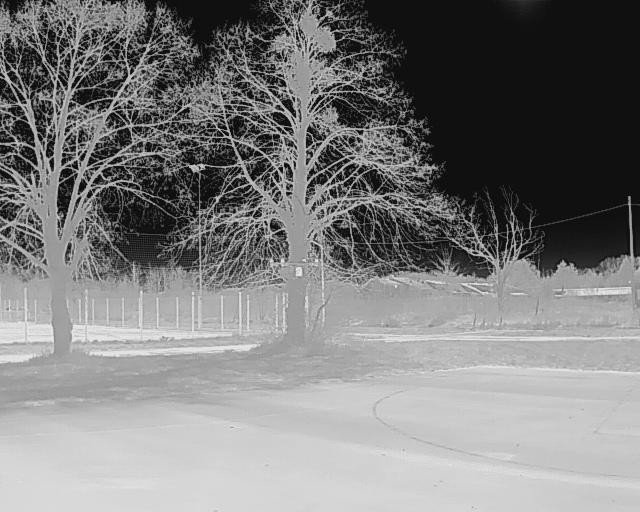drone: (262, 249, 331, 286)
